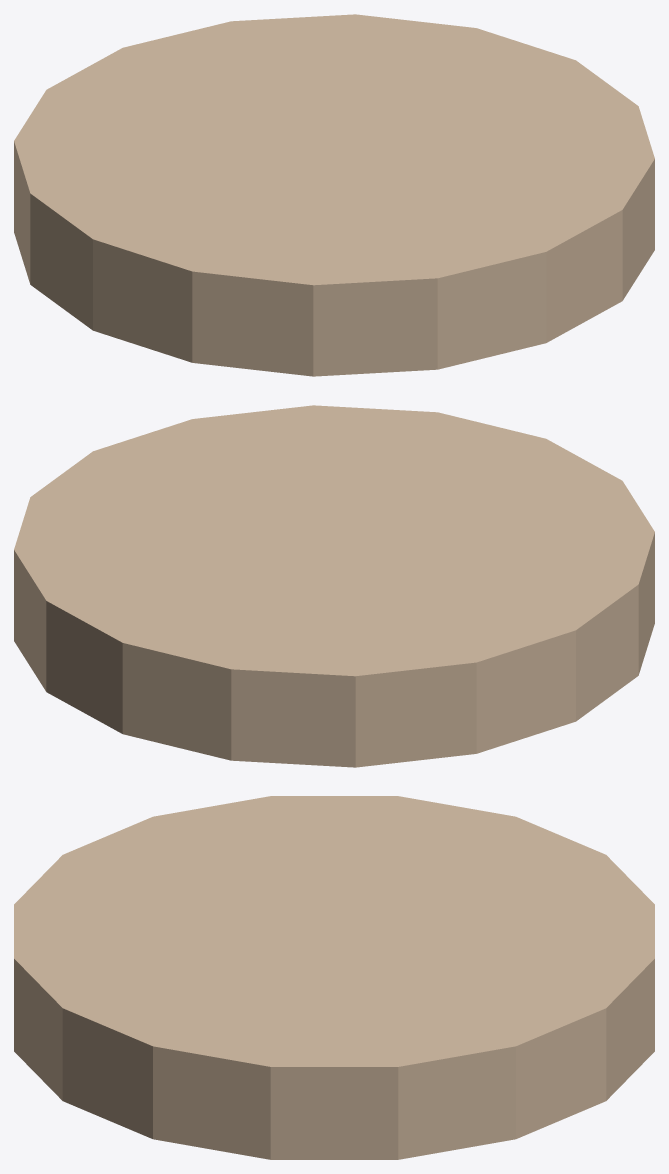
File: compact collider.obj
The picture shows the model from 3 angles, top to bottom: view 1: azimuth 30°, elevation 25°; view 2: azimuth 150°, elevation 25°; view 3: azimuth 270°, elevation 25°; orthographic projection.
Parts seen in each view (by area): view 1: 1; view 2: 1; view 3: 1.
Part boxes in pixels (x1,y1,x2,y2): 1: (14,14,654,376); 1: (14,405,654,767); 1: (14,796,654,1159).
Size of the model in its own units: 0.9375 by 0.15 by 0.9375.
